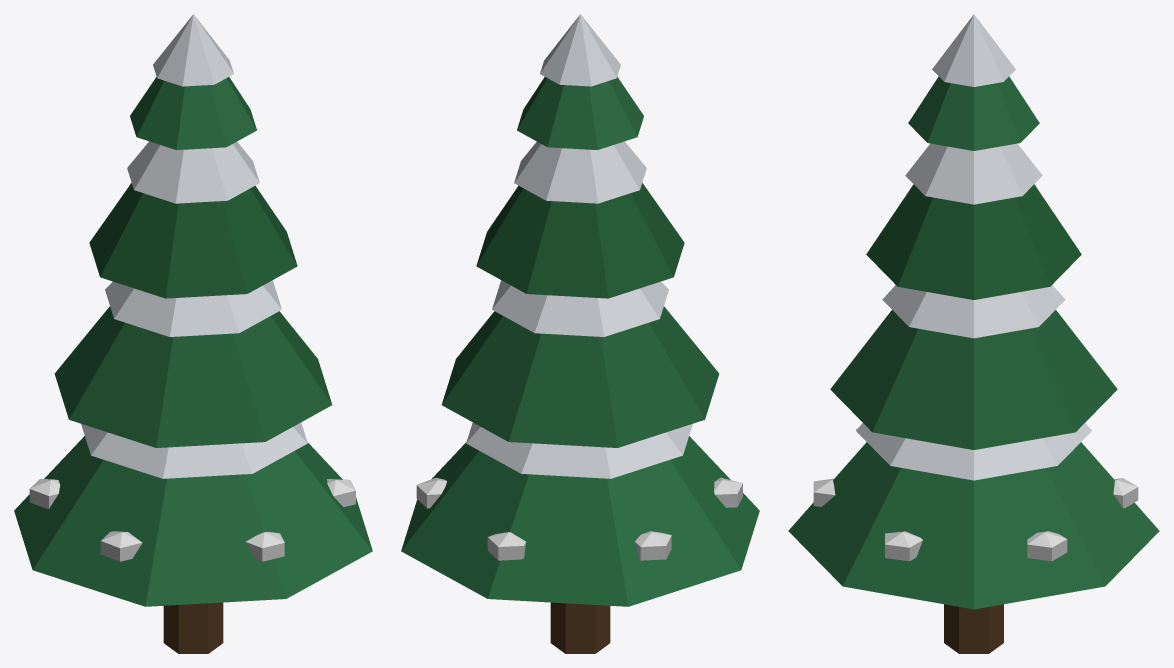
The model's file is prop_pine.glb.
3 renders of one model, left to right at view 1: azimuth 30°, elevation 25°; view 2: azimuth 150°, elevation 25°; view 3: azimuth 270°, elevation 25°, orthographic.
Visible parts, largest first — view 1: pine; view 2: pine; view 3: pine.
Part boxes in pixels (x1,y1,x2,y2): pine: (14, 14, 372, 653); pine: (401, 14, 759, 653); pine: (788, 14, 1159, 653).
Bounding box in the file's own units: 2.48 × 4.63 × 2.48.
